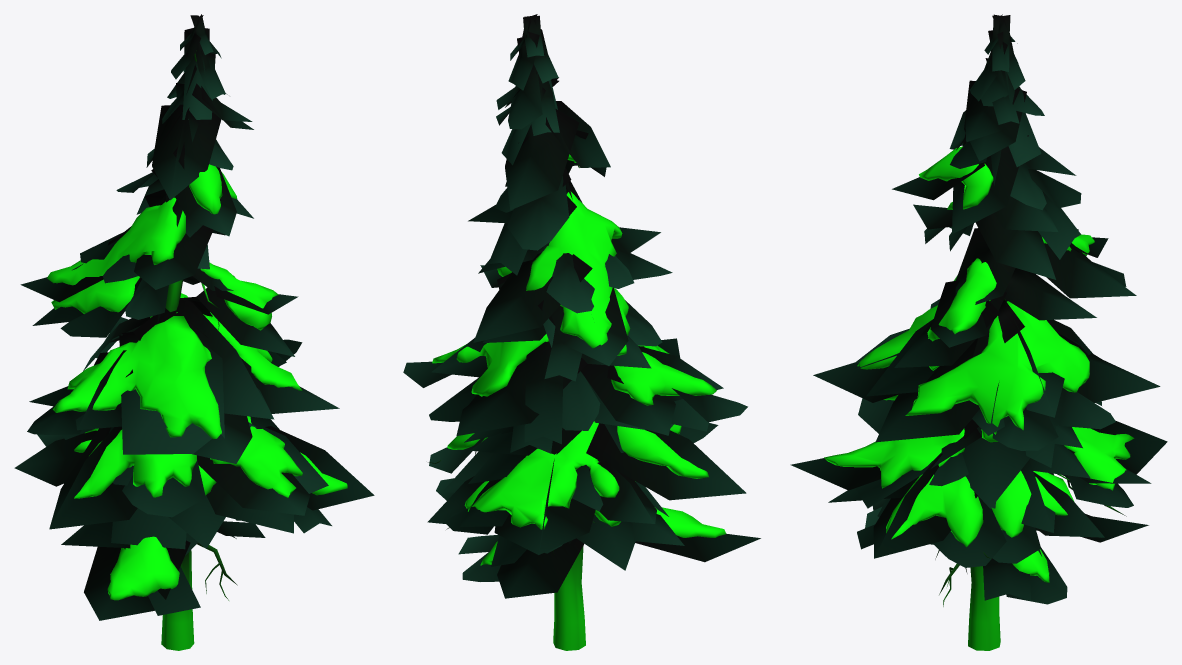
Rendered from SM_PineSnowCover01.fbx.
3 renders of one model, left to right at view 1: azimuth 30°, elevation 25°; view 2: azimuth 150°, elevation 25°; view 3: azimuth 270°, elevation 25°, orthographic. The views are drawn at different scales.
Visible parts, largest first — view 1: SM_PineSnowCover01_LOD0; view 2: SM_PineSnowCover01_LOD0; view 3: SM_PineSnowCover01_LOD0.
Part boxes in pixels (left/top/right/bottom): SM_PineSnowCover01_LOD0: left=14, top=14, right=374, bottom=650; SM_PineSnowCover01_LOD0: left=403, top=14, right=760, bottom=650; SM_PineSnowCover01_LOD0: left=790, top=14, right=1167, bottom=650.
Size of the model in its own units: 822 by 1585 by 843.
